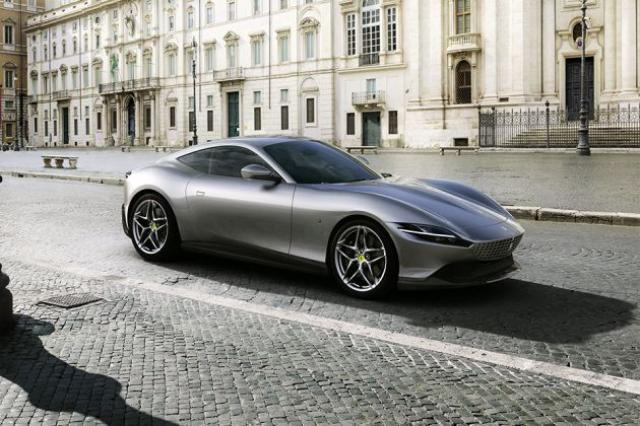ferrari: (121, 136, 527, 300)
